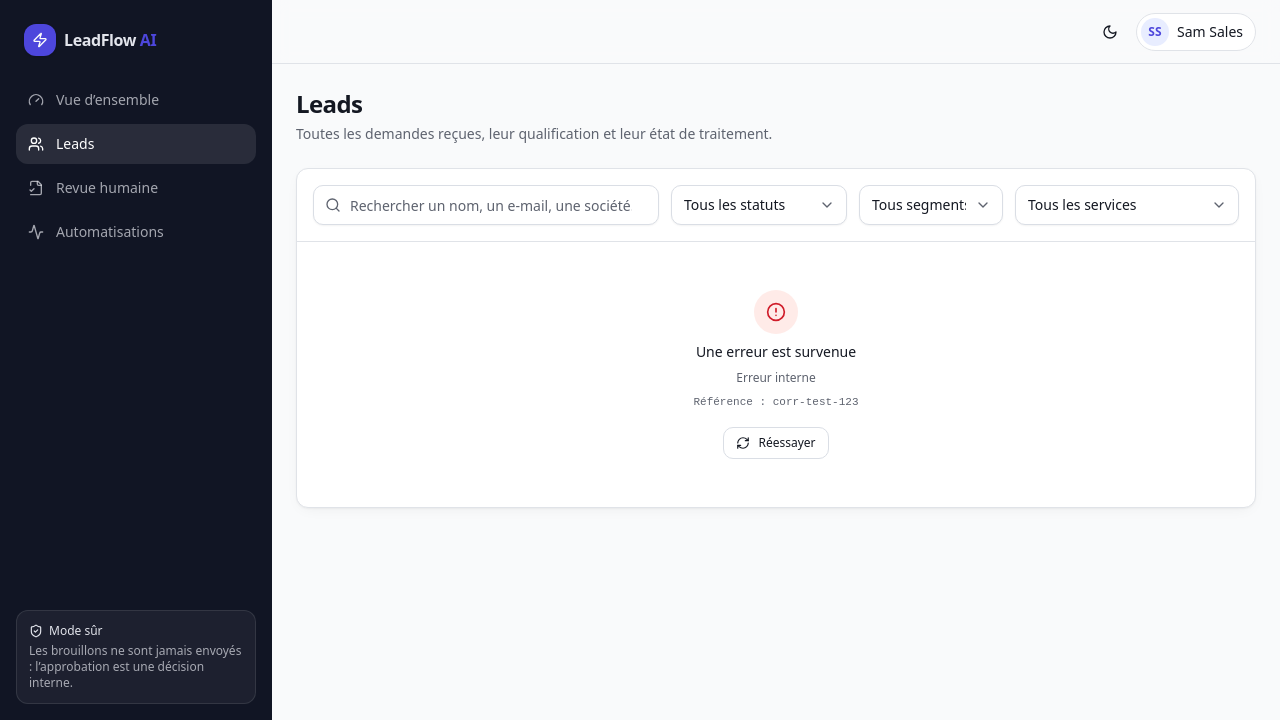
Leads › état d’erreur avec référence de corrélation et bouton Réessayer
Check: the message shows "Référence : corr-test-123", box [694,290,858,458]
Step 1. Click the button "Réessayer" → click(776, 442), box [724,426,829,458]
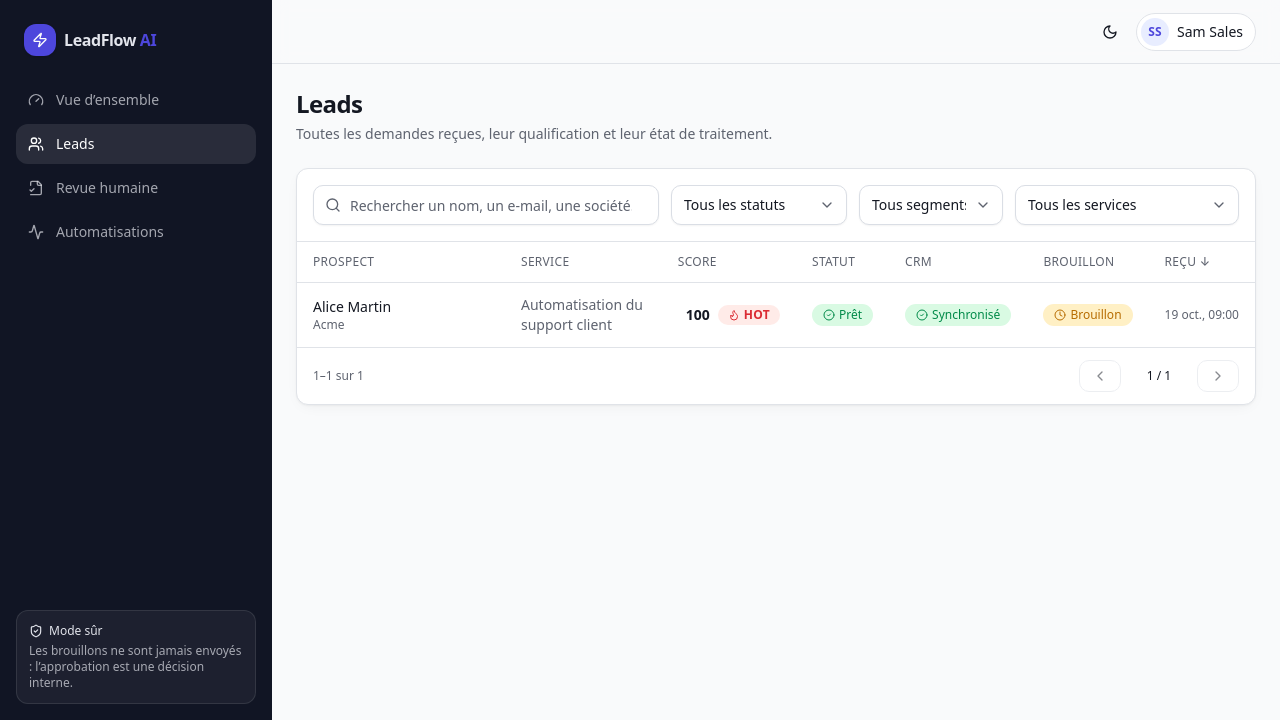
Check: the link "Alice Martin Acme" is shown, box [313,296,391,332]
